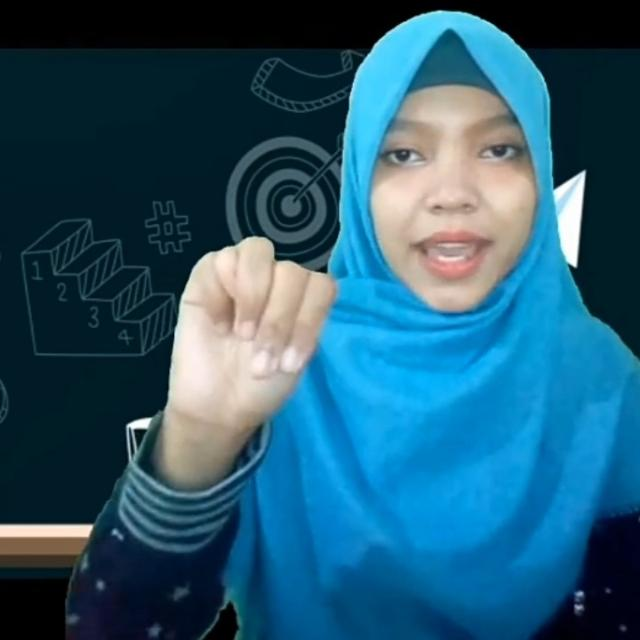M: (162, 235, 342, 427)
